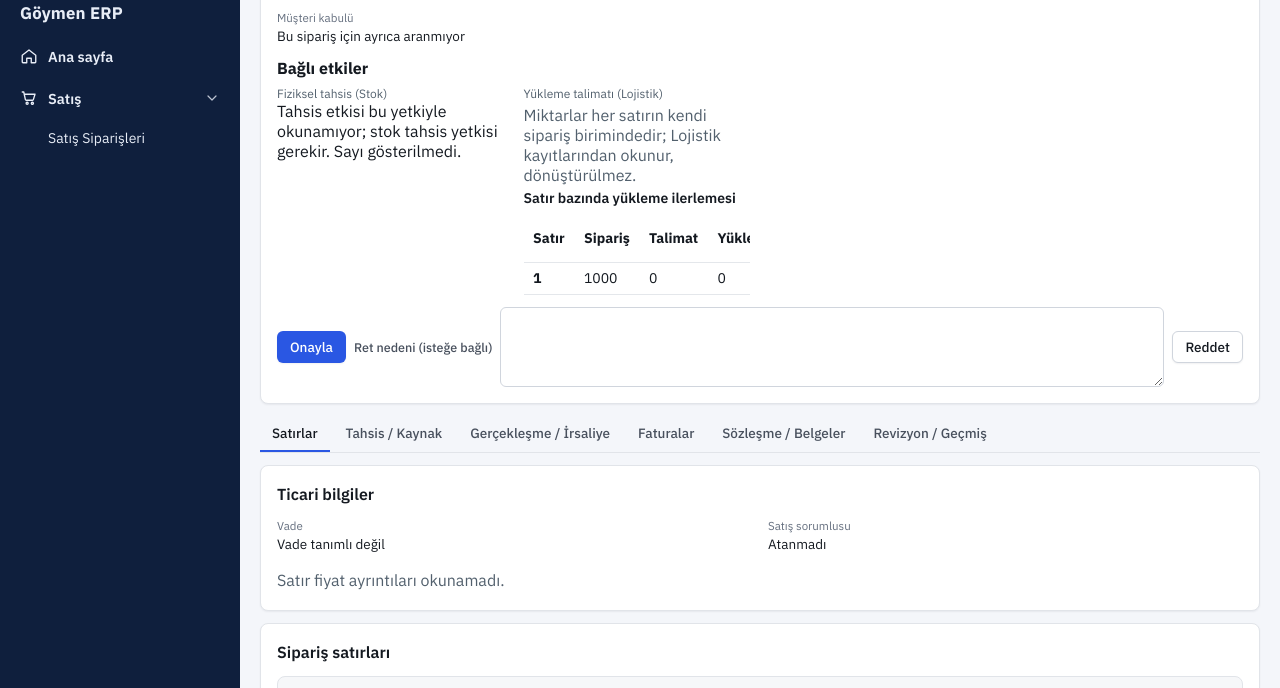
Test: S-04 commands › a 409 state conflict is a refusal with its text and re-reads the draft; an unknown outcome keeps its key for the retry
The image size is (1280, 688).
(page scrolled)
Click the button "Onayla" at (312, 347), box [277,331,346,363]
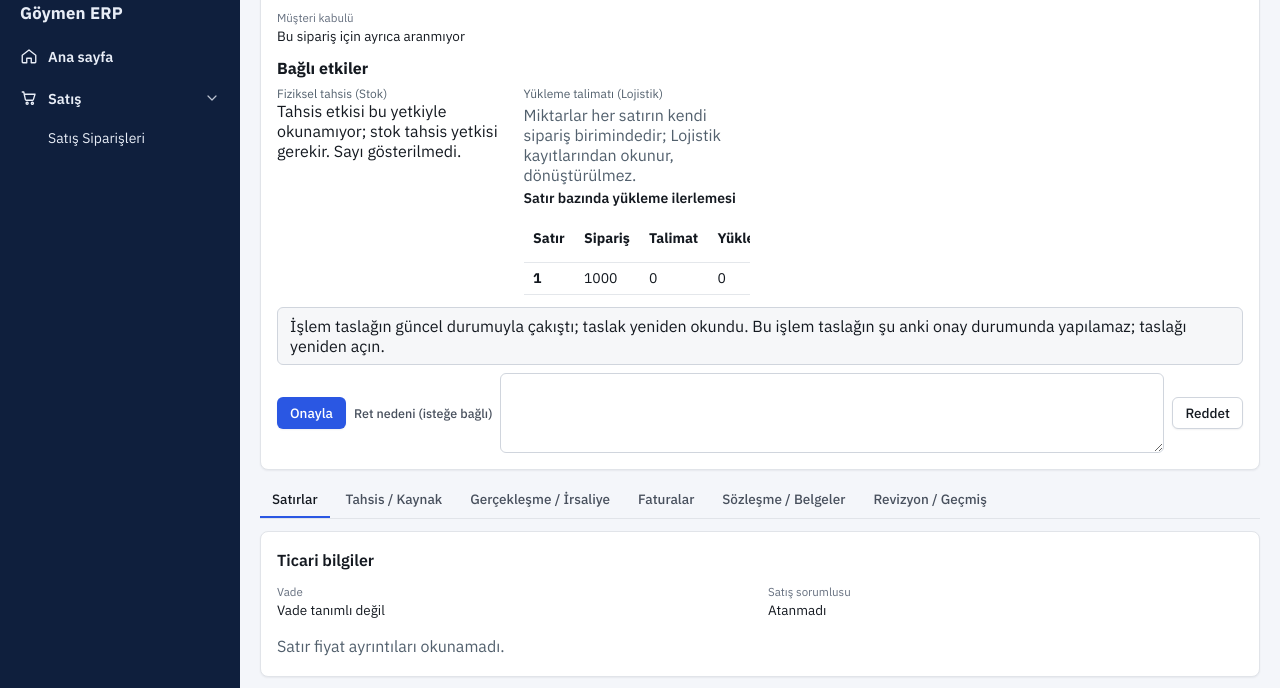
Check: the message shows "İşlem taslağın güncel durumuyla çakıştı; taslak yeniden okundu.", box [290,316,1186,356]
Check: the message shows "şu anki onay durumunda", box [290,316,1186,356]
Note: A 503 is an unknown outcome: the buttons freeze, the retry resends the SAME key.
Click the button "Onayla" at (312, 413), box [277,397,346,429]
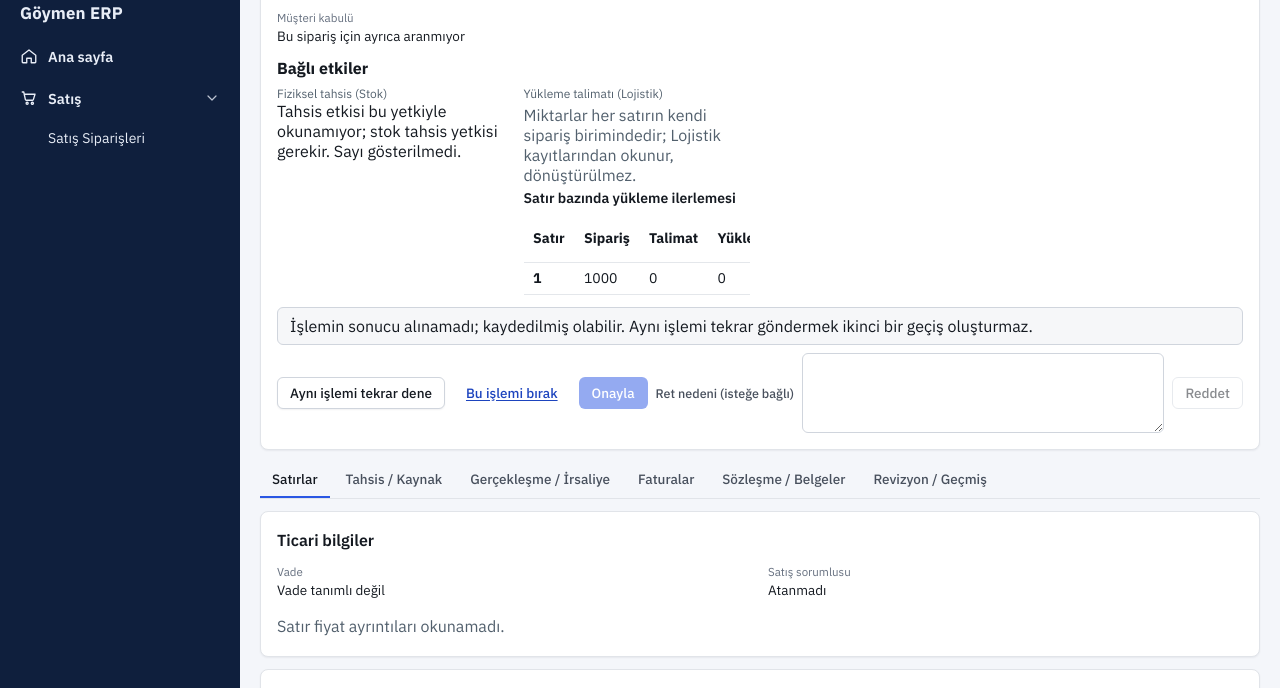
Check: the text "İşlemin sonucu alınamadı; kaydedilmiş olabilir. Aynı işlemi tekrar göndermek ikinci bir geçiş oluşturmaz." is shown, box [290,316,1033,336]
Check: the button "Onayla" is disabled, box [579,377,648,409]
Click the button "Aynı işlemi tekrar dene" at (361, 393), box [277,377,445,409]
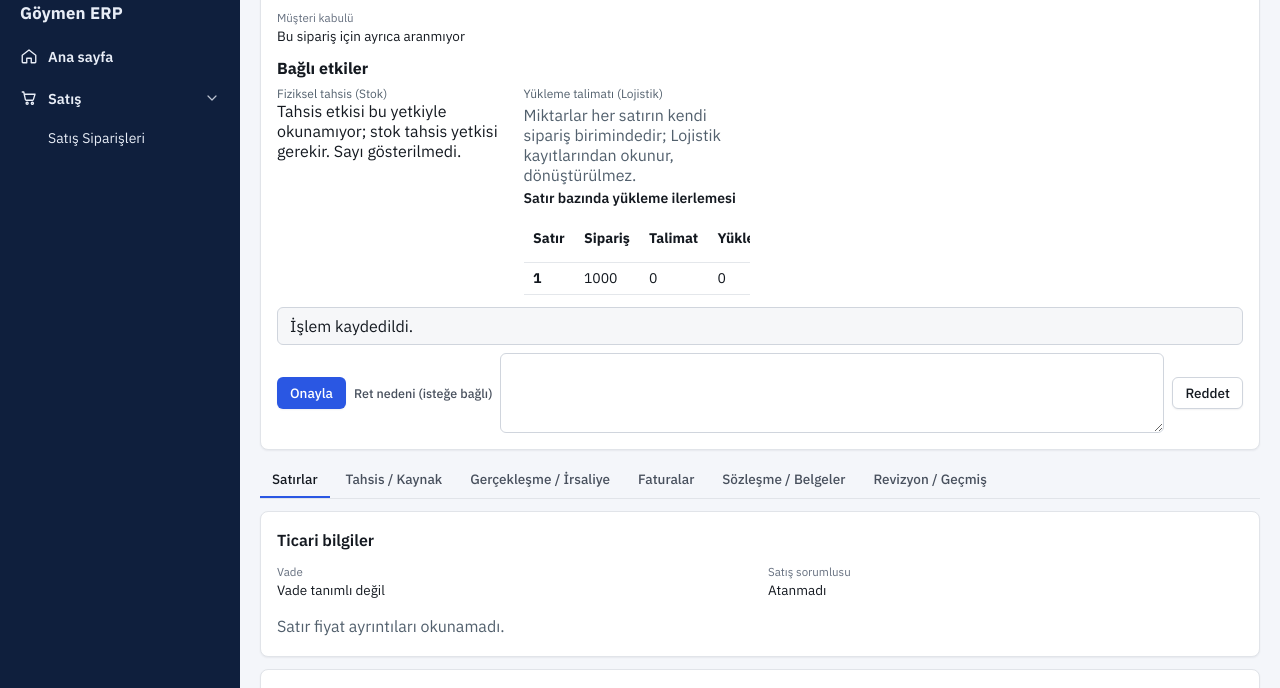
Check: the text "İşlem kaydedildi." is shown, box [277,307,1243,345]
